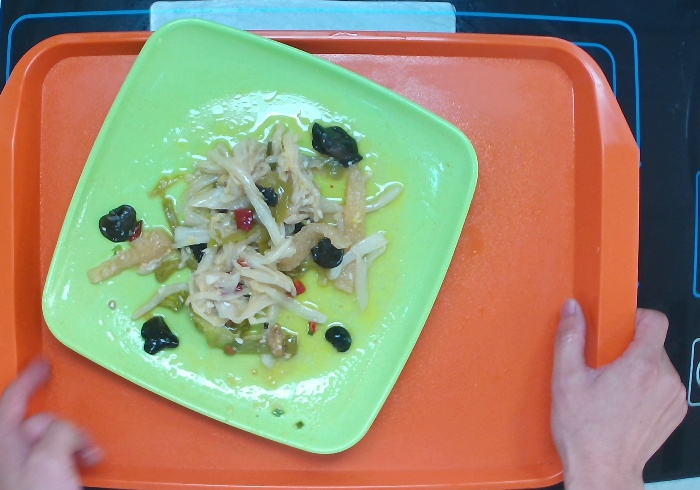ZNLD-Lv_Fang_Pan: (36, 14, 479, 456)
